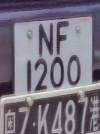0: (49, 54, 67, 94), (67, 53, 83, 91)
1: (21, 55, 36, 98)
2: (32, 55, 51, 93)
F: (53, 17, 70, 59)
N: (32, 21, 57, 60)
